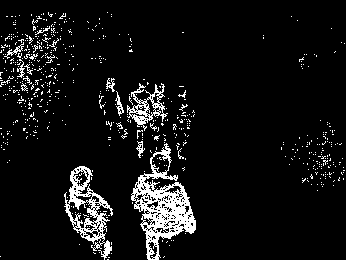person: (129, 152, 197, 260), (62, 165, 120, 257), (96, 76, 129, 144), (128, 78, 151, 158), (174, 86, 195, 159), (150, 83, 167, 154)
